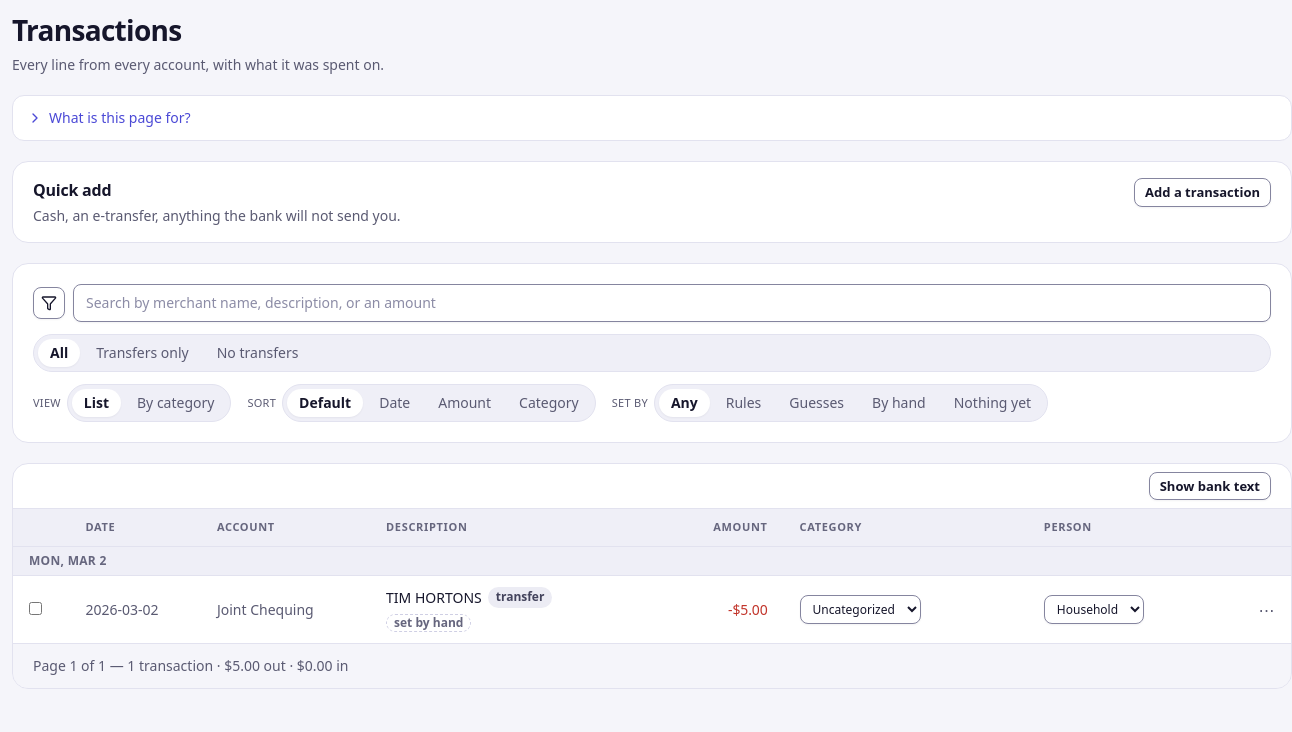
Show all from this merchant row action (F-01) › is offered on a transfer row too, unlike the row actions that are about spend
Click the button named "Actions for TIM HORTONS" at [1267, 610], box [1251,594,1283,626]
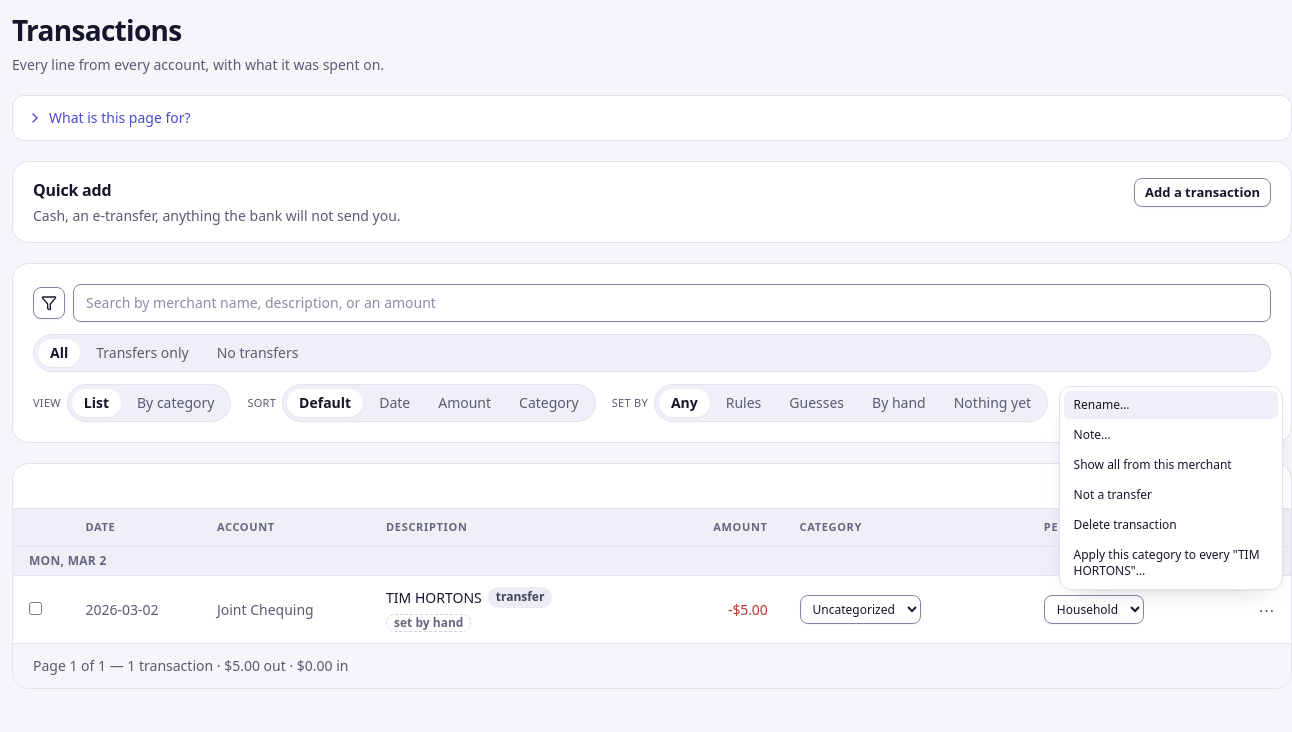
Now the menu item "Show all from this merchant" is shown, box [1074,456,1232,473]
